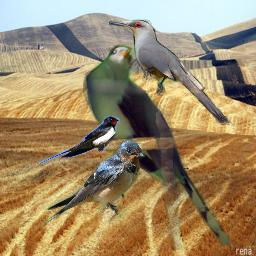Cuckoo: (83, 44, 242, 250), (109, 19, 233, 128)
Swallow: (41, 140, 145, 228), (38, 116, 120, 164)
